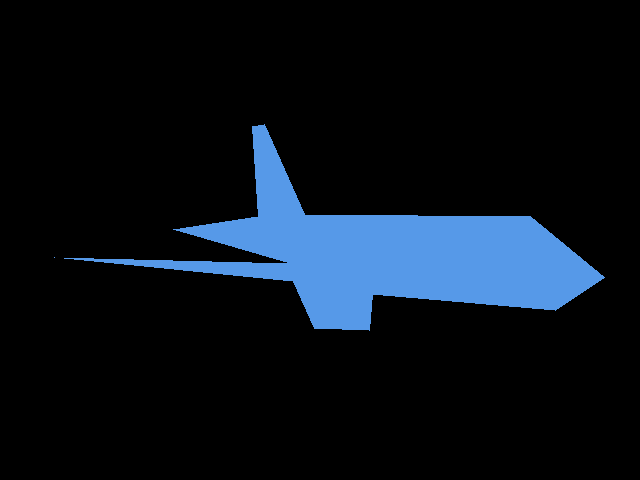Airplane: (54, 124, 604, 331)
